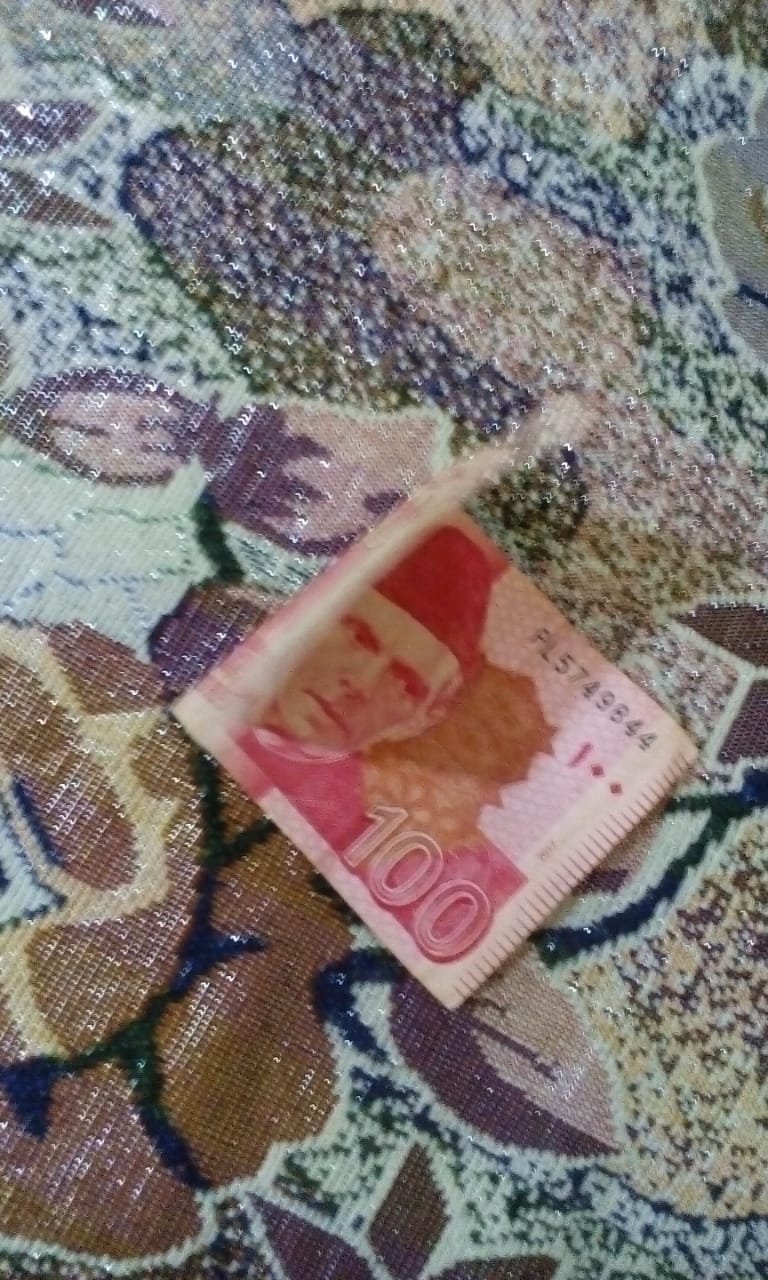100 rupee: (125, 384, 697, 1054)
